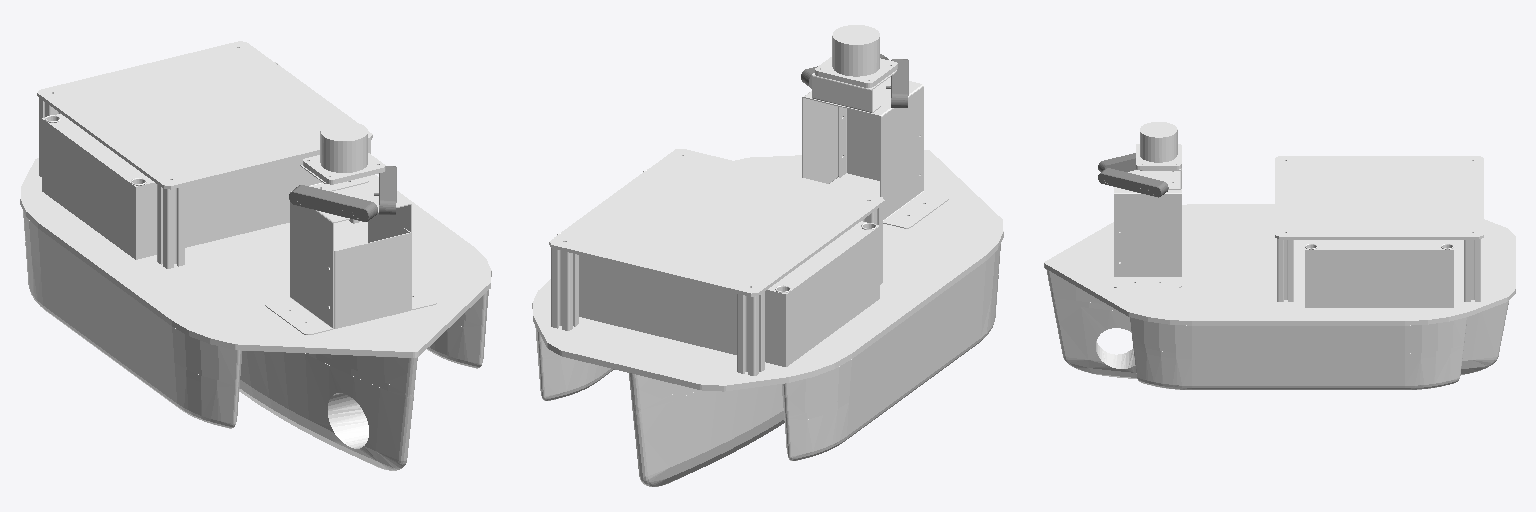
URDF robot description (Trimaran Hull Plan_1):
<?xml version="1.0" encoding="utf-8"?>
<!-- This URDF was automatically created by SolidWorks to URDF Exporter! Originally created by [author] ([email redacted]) 
     Commit Version: 1.6.0-1-g15f4949  Build Version: 1.6.7594.29634
     For more information, please see http://wiki.ros.org/sw_urdf_exporter -->
<robot
  name="Trimaran Hull Plan_1">
  <link
    name="base_link">
    <inertial>
      <origin
        xyz="-0.069516 0.090217 -0.019548"
        rpy="0 0 0" />
      <mass
        value="80.495" />
      <inertia
        ixx="3.9353"
        ixy="-1.9579E-07"
        ixz="1.4429E-05"
        iyy="4.3338"
        iyz="-0.0023399"
        izz="0.60025" />
    </inertial>
    <visual>
      <origin
        xyz="0 0 0"
        rpy="0 0 0" />
      <geometry>
        <mesh
          filename="package://Trimaran Hull Plan_1/meshes/base_link.STL" />
      </geometry>
      <material
        name="">
        <color
          rgba="0.84314 0.81569 0.74902 1" />
      </material>
    </visual>
    <collision>
      <origin
        xyz="0 0 0"
        rpy="0 0 0" />
      <geometry>
        <mesh
          filename="package://Trimaran Hull Plan_1/meshes/base_link.STL" />
      </geometry>
    </collision>
  </link>
  <link
    name="Hull">
    <inertial>
      <origin
        xyz="1.6895E-05 -0.074162 -0.0020175"
        rpy="0 0 0" />
      <mass
        value="35" />
      <inertia
        ixx="3.9343"
        ixy="6.3474E-08"
        ixz="1.6105E-05"
        iyy="4.3327"
        iyz="-0.0023402"
        izz="0.59953" />
    </inertial>
    <visual>
      <origin
        xyz="0 0 0"
        rpy="0 0 0" />
      <geometry>
        <mesh
          filename="package://Trimaran Hull Plan_1/meshes/Hull.STL" />
      </geometry>
      <material
        name="">
        <color
          rgba="1 1 1 1" />
      </material>
    </visual>
    <collision>
      <origin
        xyz="0 0 0"
        rpy="0 0 0" />
      <geometry>
        <mesh
          filename="package://Trimaran Hull Plan_1/meshes/Hull.STL" />
      </geometry>
    </collision>
  </link>
  <joint
    name="hull_center"
    type="fixed">
    <origin
      xyz="-0.069531 0.019137 0.16425"
      rpy="1.5708 0 0" />
    <parent
      link="base_link" />
    <child
      link="Hull" />
    <axis
      xyz="0 0 0" />
  </joint>
  <link
    name="Camera_L">
    <inertial>
      <origin
        xyz="2.6975E-06 0.015484 0.042379"
        rpy="0 0 0" />
      <mass
        value="0.15226" />
      <inertia
        ixx="2.2818E-05"
        ixy="-2.5787E-09"
        ixz="-6.1961E-09"
        iyy="0.00037232"
        iyz="-3.1542E-08"
        izz="0.00037474" />
    </inertial>
    <visual>
      <origin
        xyz="0 0 0"
        rpy="0 0 0" />
      <geometry>
        <mesh
          filename="package://Trimaran Hull Plan_1/meshes/Camera_L.STL" />
      </geometry>
      <material
        name="">
        <color
          rgba="0.62745 0.62745 0.62745 1" />
      </material>
    </visual>
    <collision>
      <origin
        xyz="0 0 0"
        rpy="0 0 0" />
      <geometry>
        <mesh
          filename="package://Trimaran Hull Plan_1/meshes/Camera_L.STL" />
      </geometry>
    </collision>
  </link>
  <joint
    name="C_L"
    type="fixed">
    <origin
      xyz="-0.025636 -0.36155 0.36876"
      rpy="-0.032661 0 -2.0944" />
    <parent
      link="base_link" />
    <child
      link="Camera_L" />
    <axis
      xyz="0 0 0" />
  </joint>
  <link
    name="Camera_R">
    <inertial>
      <origin
        xyz="2.7724E-06 0.015484 0.042379"
        rpy="0 0 0" />
      <mass
        value="0.15226" />
      <inertia
        ixx="2.2818E-05"
        ixy="-2.5672E-09"
        ixz="-6.433E-09"
        iyy="0.00037232"
        iyz="-3.1508E-08"
        izz="0.00037474" />
    </inertial>
    <visual>
      <origin
        xyz="0 0 0"
        rpy="0 0 0" />
      <geometry>
        <mesh
          filename="package://Trimaran Hull Plan_1/meshes/Camera_R.STL" />
      </geometry>
      <material
        name="">
        <color
          rgba="0.62745 0.62745 0.62745 1" />
      </material>
    </visual>
    <collision>
      <origin
        xyz="0 0 0"
        rpy="0 0 0" />
      <geometry>
        <mesh
          filename="package://Trimaran Hull Plan_1/meshes/Camera_R.STL" />
      </geometry>
    </collision>
  </link>
  <joint
    name="C_R"
    type="fixed">
    <origin
      xyz="-0.11343 -0.36155 0.36876"
      rpy="-0.032661 0 2.0944" />
    <parent
      link="base_link" />
    <child
      link="Camera_R" />
    <axis
      xyz="0 0 0" />
  </joint>
  <link
    name="Front_Thruster">
    <inertial>
      <origin
        xyz="5.4986E-05 0.00055945 -0.0039639"
        rpy="0 0 0" />
      <mass
        value="0.19508" />
      <inertia
        ixx="0.00013137"
        ixy="-6.6947E-08"
        ixz="-1.3646E-07"
        iyy="0.00012733"
        iyz="1.4653E-07"
        izz="0.0001818" />
    </inertial>
    <visual>
      <origin
        xyz="0 0 0"
        rpy="0 0 0" />
      <geometry>
        <mesh
          filename="package://Trimaran Hull Plan_1/meshes/Front_Thruster.STL" />
      </geometry>
      <material
        name="">
        <color
          rgba="0.64706 0.61961 0.58431 1" />
      </material>
    </visual>
    <collision>
      <origin
        xyz="0 0 0"
        rpy="0 0 0" />
      <geometry>
        <mesh
          filename="package://Trimaran Hull Plan_1/meshes/Front_Thruster.STL" />
      </geometry>
    </collision>
  </link>
  <joint
    name="Thruster_F"
    type="fixed">
    <origin
      xyz="-0.074886 -0.40284 -0.025752"
      rpy="1.5708 0 -1.5708" />
    <parent
      link="base_link" />
    <child
      link="Front_Thruster" />
    <axis
      xyz="0 0 0" />
  </joint>
  <link
    name="Back_Thruster_R">
    <inertial>
      <origin
        xyz="5.8812E-05 -0.00055929 0.0039651"
        rpy="0 0 0" />
      <mass
        value="0.19507" />
      <inertia
        ixx="0.00013136"
        ixy="7.1663E-08"
        ixz="1.4129E-07"
        iyy="0.00012733"
        iyz="1.4696E-07"
        izz="0.00018179" />
    </inertial>
    <visual>
      <origin
        xyz="0 0 0"
        rpy="0 0 0" />
      <geometry>
        <mesh
          filename="package://Trimaran Hull Plan_1/meshes/Back_Thruster_R.STL" />
      </geometry>
      <material
        name="">
        <color
          rgba="0.64706 0.61961 0.58431 1" />
      </material>
    </visual>
    <collision>
      <origin
        xyz="0 0 0"
        rpy="0 0 0" />
      <geometry>
        <mesh
          filename="package://Trimaran Hull Plan_1/meshes/Back_Thruster_R.STL" />
      </geometry>
    </collision>
  </link>
  <joint
    name="Thruster_B_R"
    type="fixed">
    <origin
      xyz="-0.33423 0.19891 -0.074752"
      rpy="-1.5708 0 -0.10161" />
    <parent
      link="base_link" />
    <child
      link="Back_Thruster_R" />
    <axis
      xyz="0 0 0" />
  </joint>
  <link
    name="Back_Thruster_L">
    <inertial>
      <origin
        xyz="0 0 0"
        rpy="0 0 0" />
      <mass
        value="0" />
      <inertia
        ixx="0"
        ixy="0"
        ixz="0"
        iyy="0"
        iyz="0"
        izz="0" />
    </inertial>
    <visual>
      <origin
        xyz="0 0 0"
        rpy="0 0 0" />
      <geometry>
        <mesh
          filename="package://Trimaran Hull Plan_1/meshes/Back_Thruster_L.STL" />
      </geometry>
      <material
        name="">
        <color
          rgba="1 1 1 1" />
      </material>
    </visual>
    <collision>
      <origin
        xyz="0 0 0"
        rpy="0 0 0" />
      <geometry>
        <mesh
          filename="package://Trimaran Hull Plan_1/meshes/Back_Thruster_L.STL" />
      </geometry>
    </collision>
  </link>
  <joint
    name="Thruster_B_L"
    type="fixed">
    <origin
      xyz="0.1958 0.19896 -0.074752"
      rpy="-1.5708 0 0.070489" />
    <parent
      link="base_link" />
    <child
      link="Back_Thruster_L" />
    <axis
      xyz="0 0 0" />
  </joint>
</robot>

--- Render facts (derived) ---
Views: 3 orthographic renders of the robot side by side, from view 1: azimuth 30°, elevation 25°; view 2: azimuth 150°, elevation 25°; view 3: azimuth 270°, elevation 25°.
Robot: Trimaran Hull Plan_1 — 7 links, 6 joints (6 fixed); root link base_link; default pose: all joints at 0.
Links seen in each view (by area): view 1: Hull, Camera_R, Camera_L; view 2: Hull, Camera_R; view 3: Hull, Camera_L.
Link boxes in pixels (x1,y1,x2,y2): Hull: (20, 41, 491, 470); Camera_R: (289, 185, 377, 221); Camera_L: (374, 166, 396, 214); Hull: (532, 25, 1003, 486); Camera_R: (886, 59, 908, 107); Hull: (1044, 122, 1515, 389); Camera_L: (1098, 168, 1168, 197).
Size in the robot's own frame: 0.65 by 1.11 by 0.647 metres.
3 mesh visuals loaded from 7 distinct referenced files (3 binary STL); not drawn: 4 (reference not matched to a file when rendering).